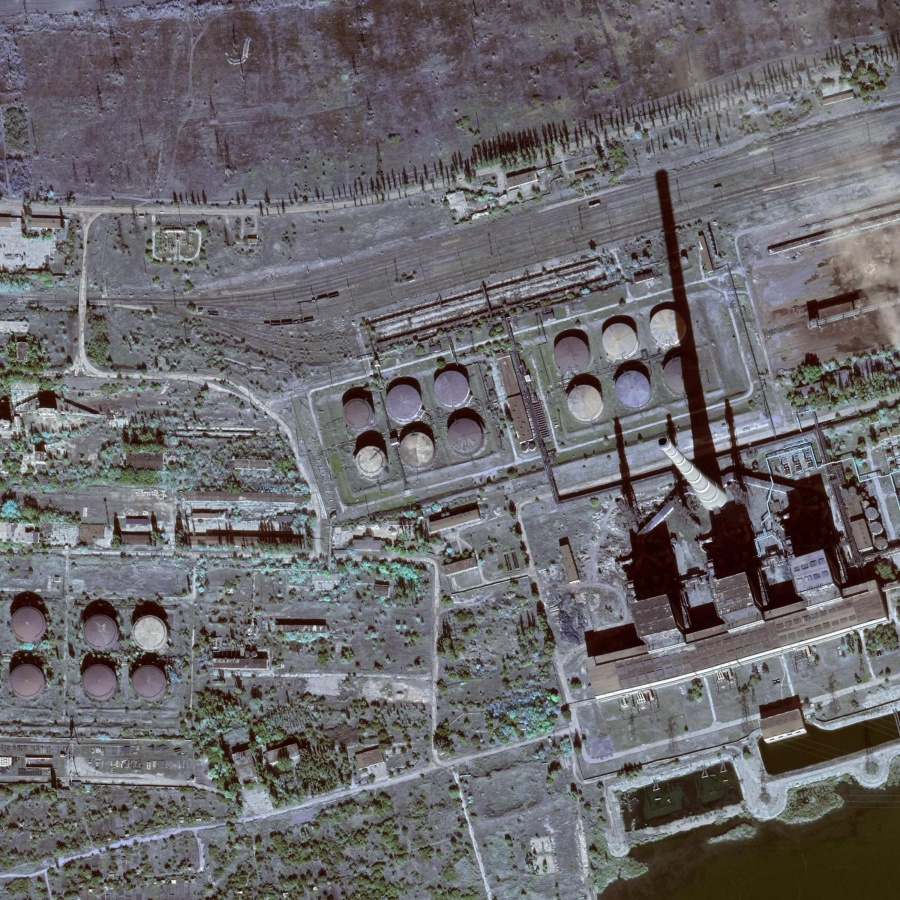PowerPlant: (304, 340, 512, 516)
